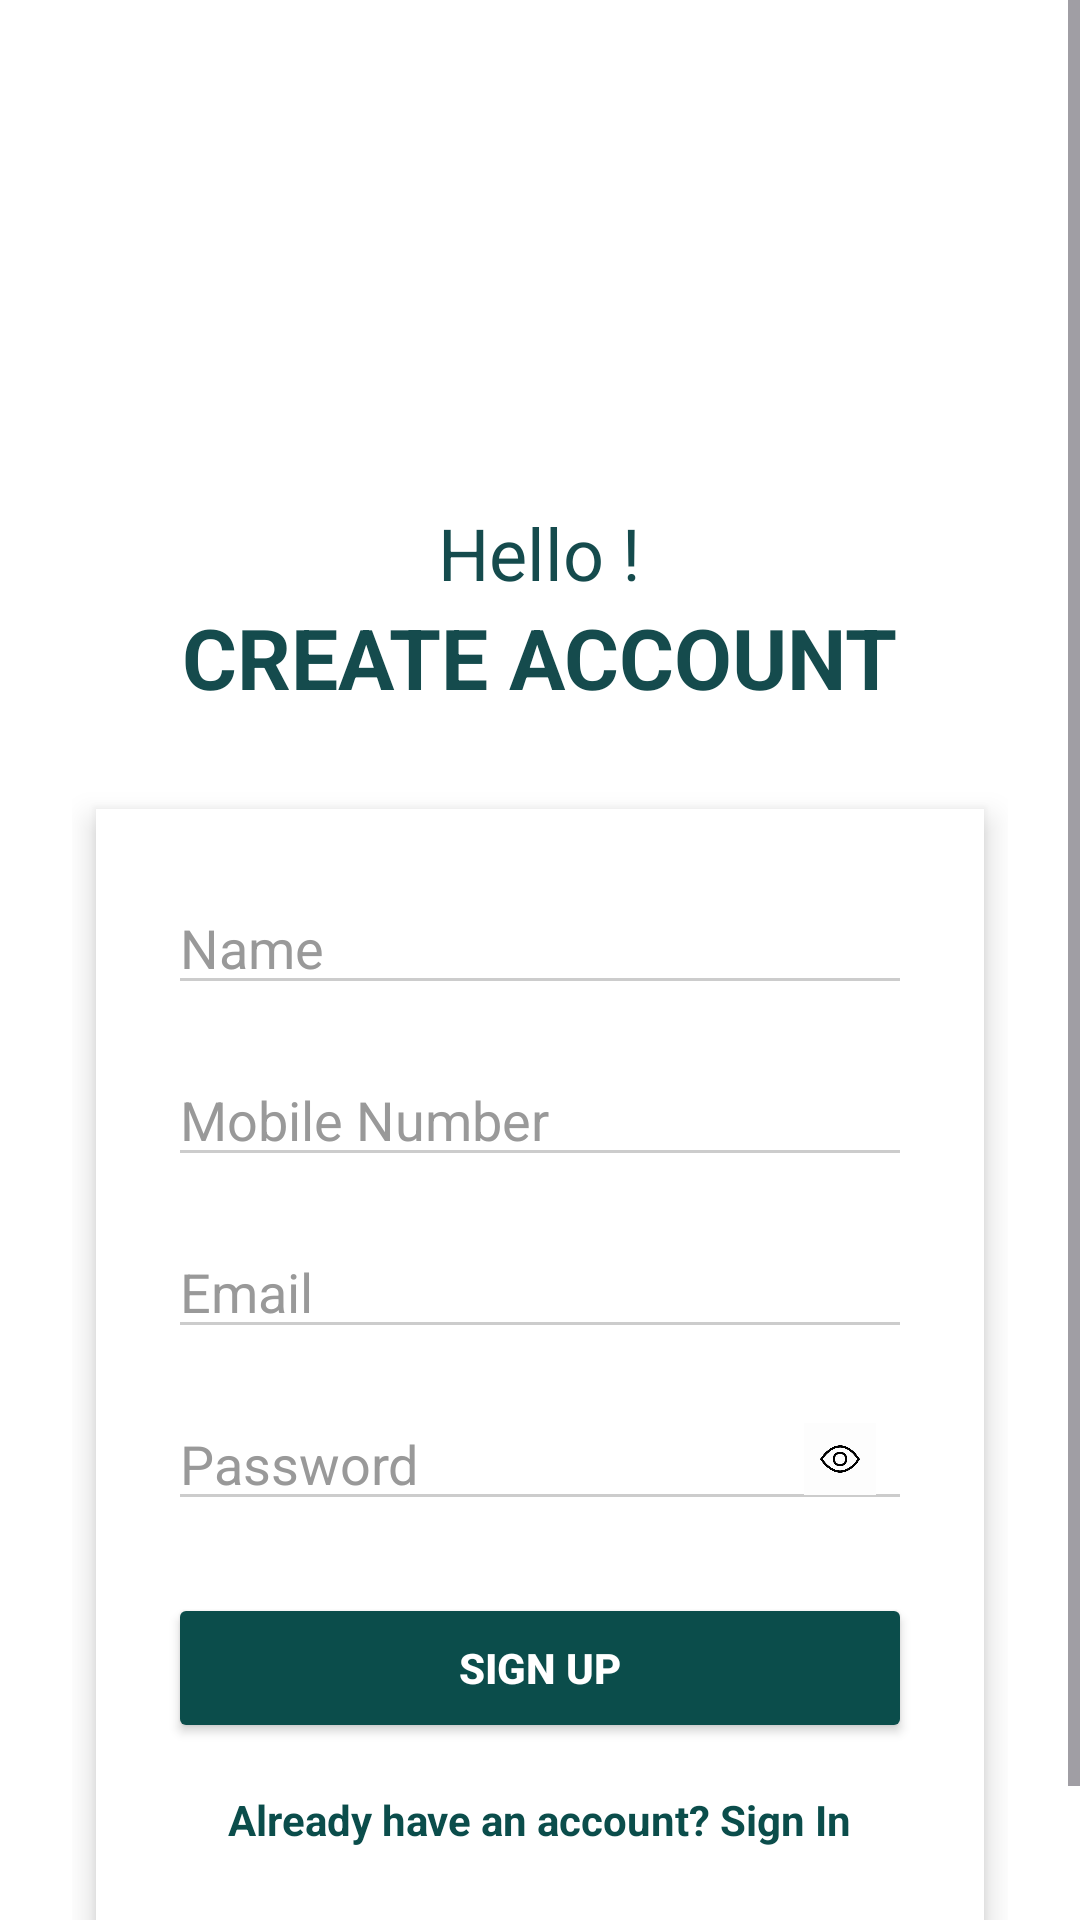

Icon bounding boxes for this 1080 × 1920 phone screenshot, format (x1, y1, x2, y2):
eye: (820, 1445, 860, 1473)
